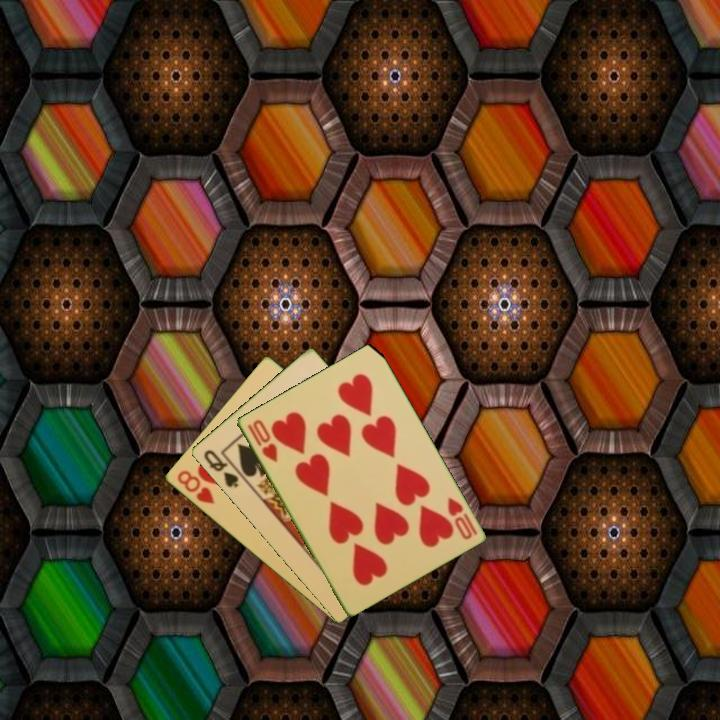10h: (243, 415, 280, 465), (443, 493, 480, 543)
8h: (173, 467, 217, 507)
Qs: (200, 446, 241, 491)
